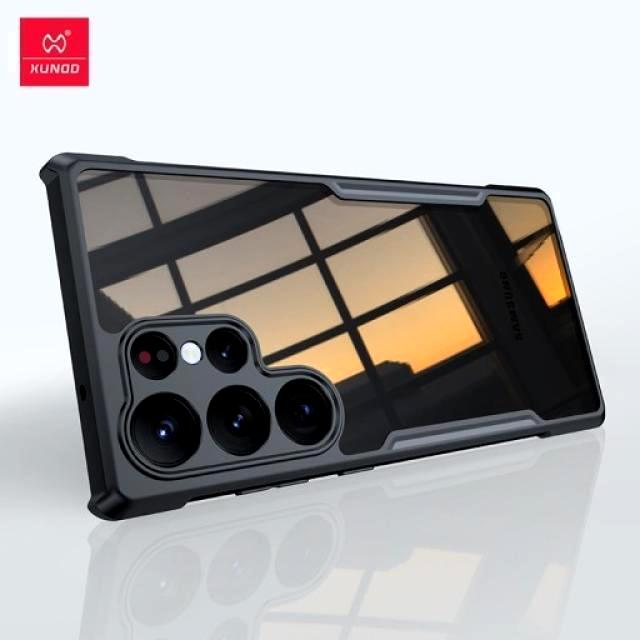lens_back: (121, 388, 204, 468), (203, 382, 274, 460), (273, 375, 336, 451)
phone: (44, 150, 610, 525)
